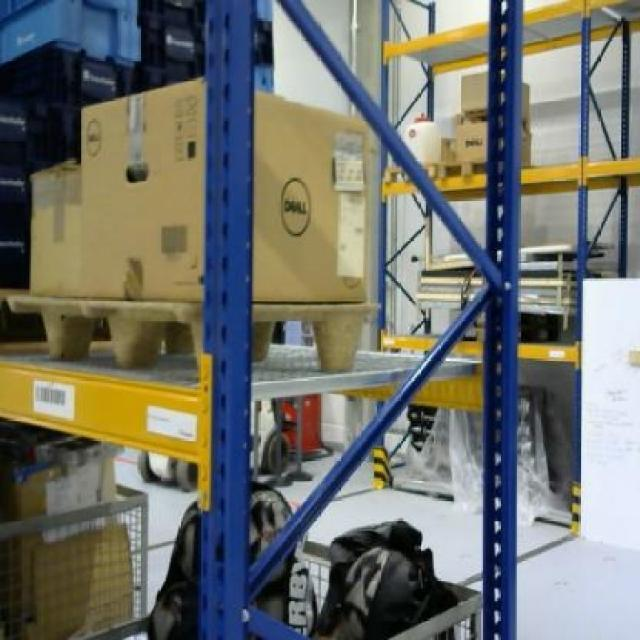box: (76, 81, 370, 304), (25, 154, 83, 294), (454, 119, 488, 167), (458, 66, 487, 114)
